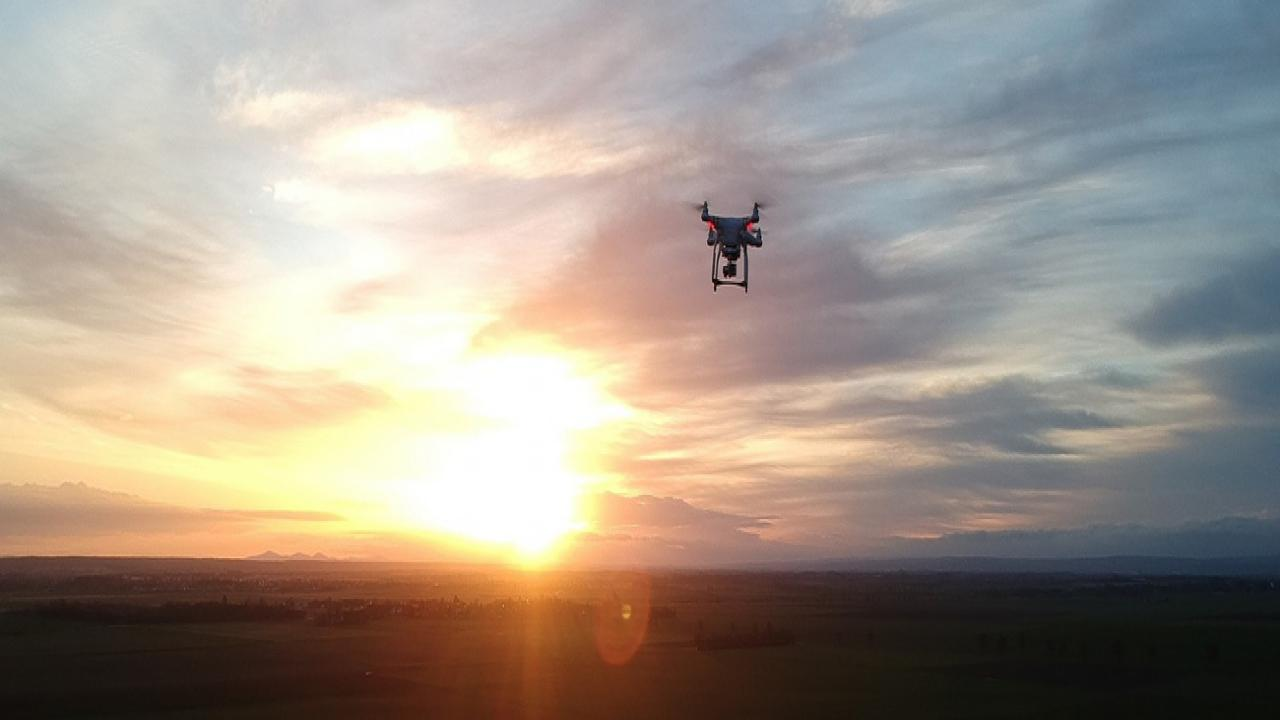Drone: (684, 186, 775, 299)
